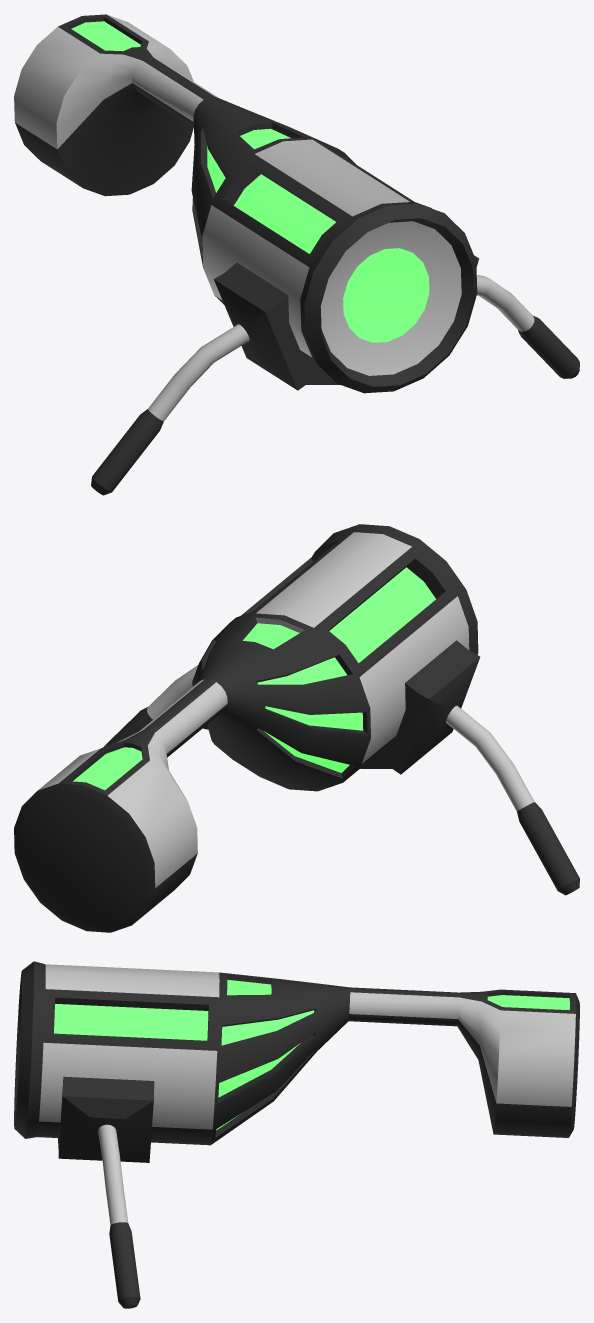
File: enemy_ranged1_just_cannon.fbx
3 views of the same model, one above another, from view 1: azimuth 30°, elevation 25°; view 2: azimuth 150°, elevation 25°; view 3: azimuth 270°, elevation 25° (orthographic). The views are drawn at different scales.
Visible parts, largest first — view 1: Cube.001; view 2: Cube.001; view 3: Cube.001.
Part boxes in pixels (left/top/right/bottom): Cube.001: left=14, top=14, right=579, bottom=495; Cube.001: left=14, top=524, right=579, bottom=932; Cube.001: left=14, top=961, right=579, bottom=1308.
Bounding box in the file's own units: 110 × 58.87 × 126.
